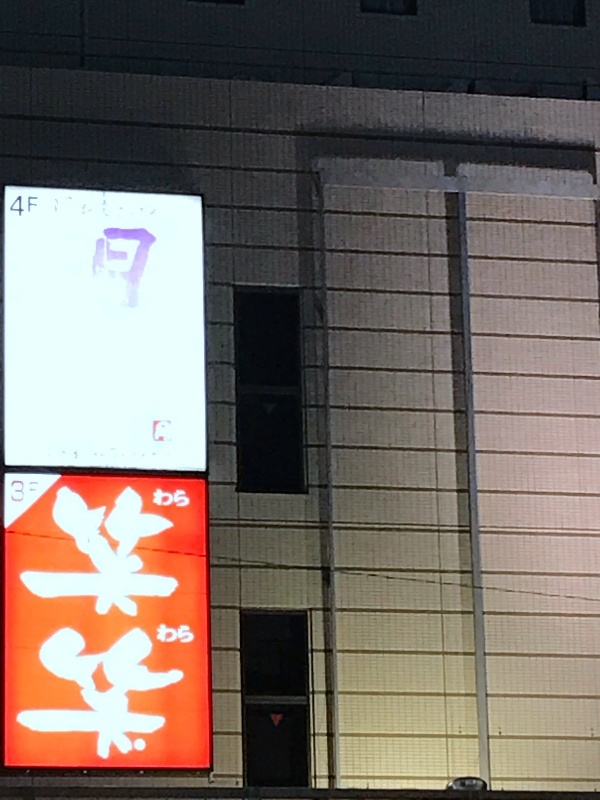text: (17, 486, 32, 767), (33, 486, 48, 767), (49, 486, 64, 767), (65, 486, 80, 767), (81, 486, 96, 767), (97, 486, 112, 767), (113, 486, 128, 767), (129, 486, 144, 767), (145, 486, 160, 767), (161, 486, 176, 767), (177, 486, 190, 767), (97, 218, 112, 319), (113, 218, 128, 319), (129, 218, 144, 319), (145, 218, 160, 319), (12, 486, 16, 767), (17, 188, 32, 230), (90, 218, 96, 319), (161, 481, 176, 517), (161, 616, 176, 651), (177, 616, 192, 651), (177, 481, 191, 517), (17, 475, 32, 508), (7, 188, 16, 230), (33, 188, 42, 230), (33, 475, 42, 508), (152, 481, 160, 517), (153, 616, 160, 651), (9, 475, 16, 508), (193, 616, 198, 651)
